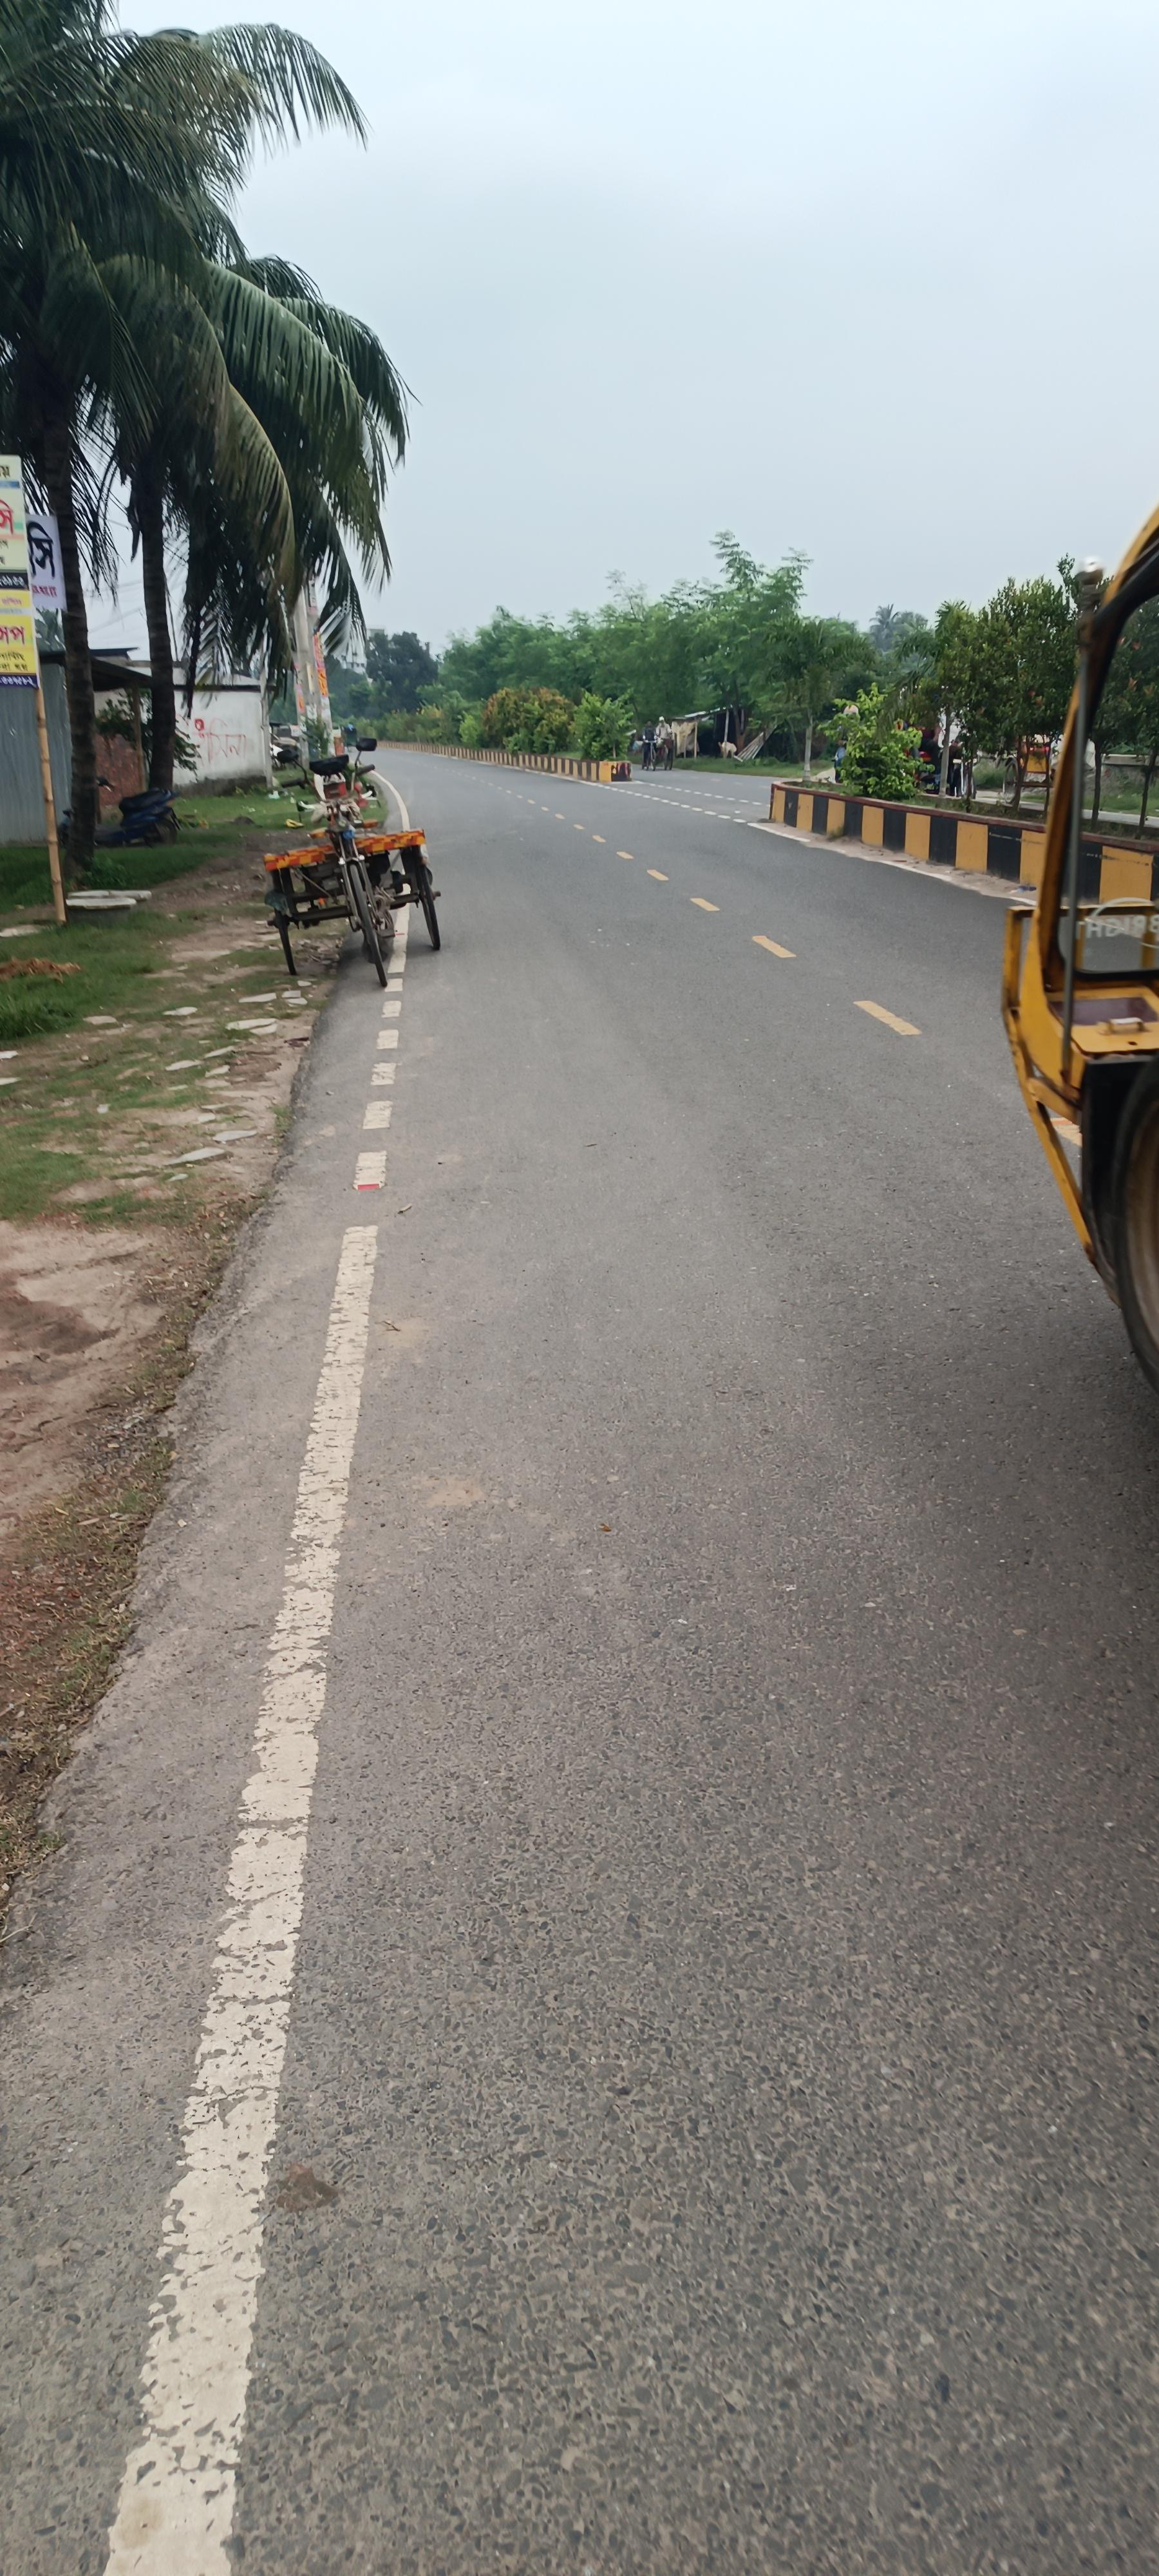Construction-barrier: (729, 741, 1134, 869)
Traffic-cone: (263, 726, 442, 987)
